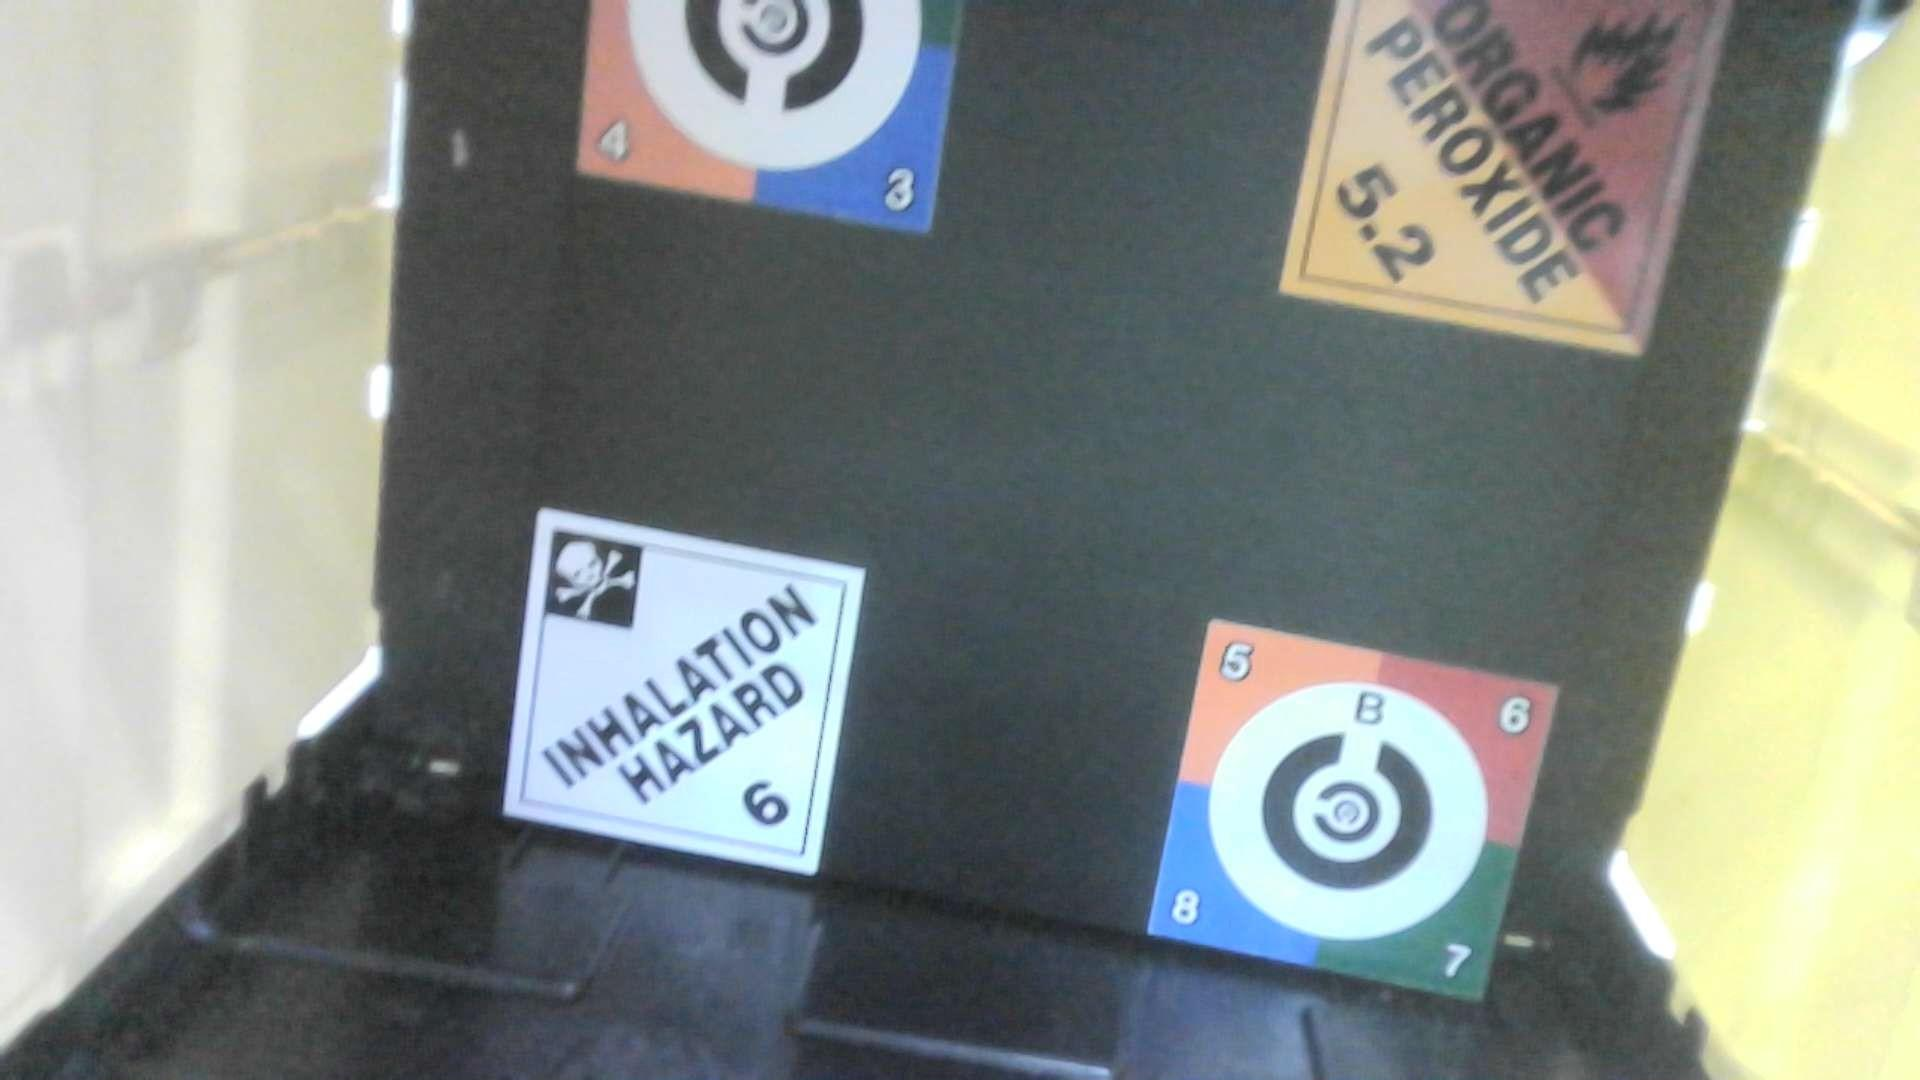organic-peroxide: (1279, 1, 1764, 365)
poison: (498, 506, 880, 882)
